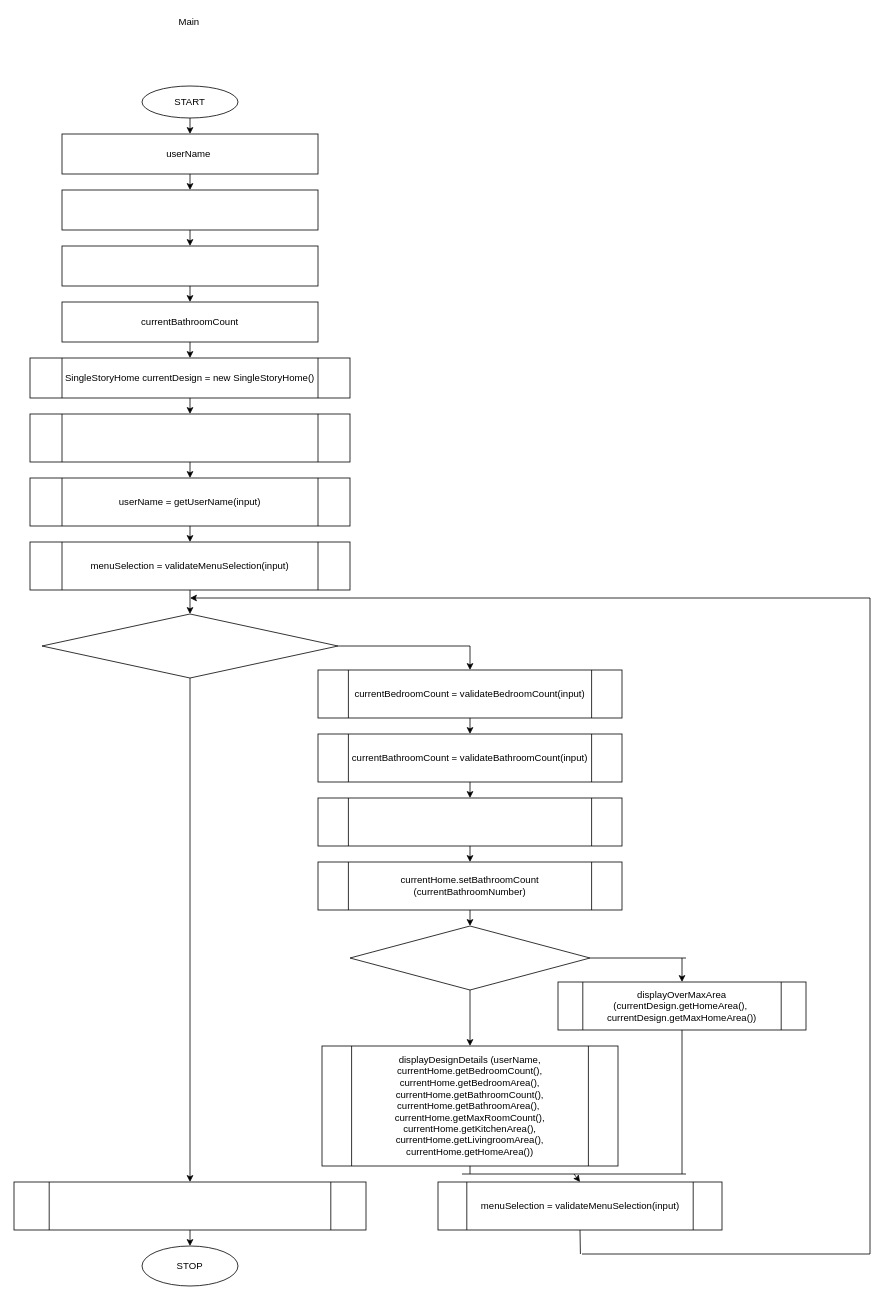
Image size: 890x1300. Some labels were removed from this diagram. Each missing label, with the centre of its shape:
currentBedroomCount: (x=189, y=265)
currentDesign.getHomeArea() > currentDesign.getMaxHomeArea(): (x=469, y=957)
currnetHome.setBedroomCount (currentBedroomNumber): (x=469, y=821)
displayFarewellMessage: (x=189, y=1205)
displayWelcomeMessage(): (x=189, y=437)
menuSelection: (x=189, y=209)
menuSelection != 'Q': (x=189, y=645)
